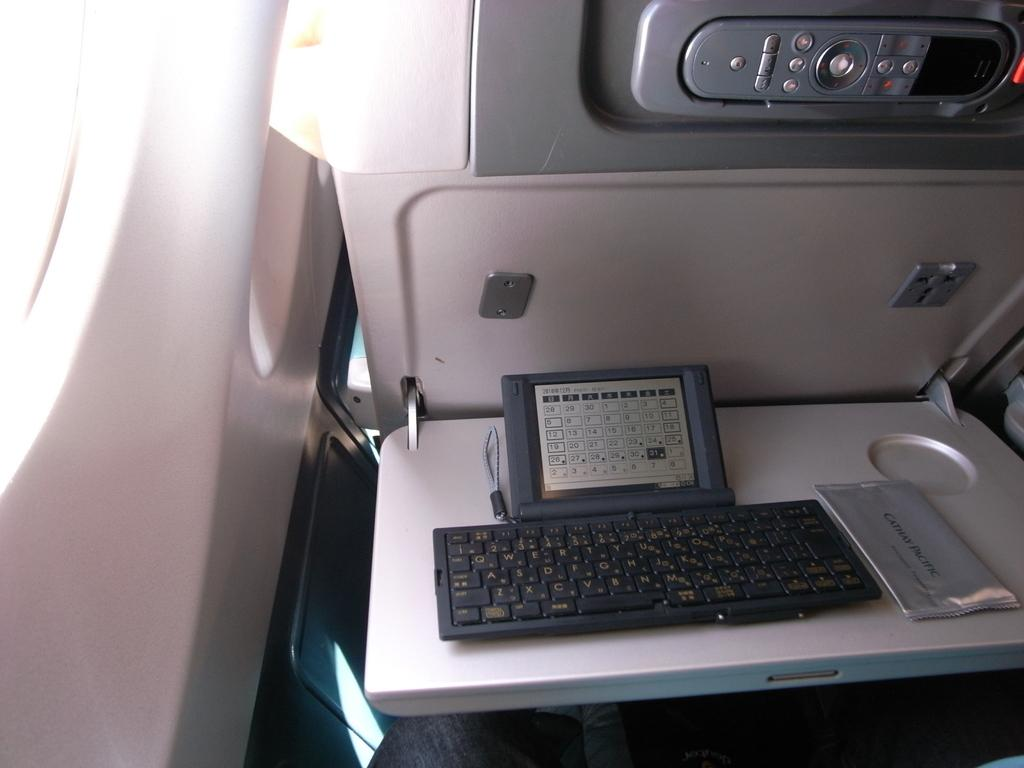Computer-keyboard: (432, 499, 882, 641)
